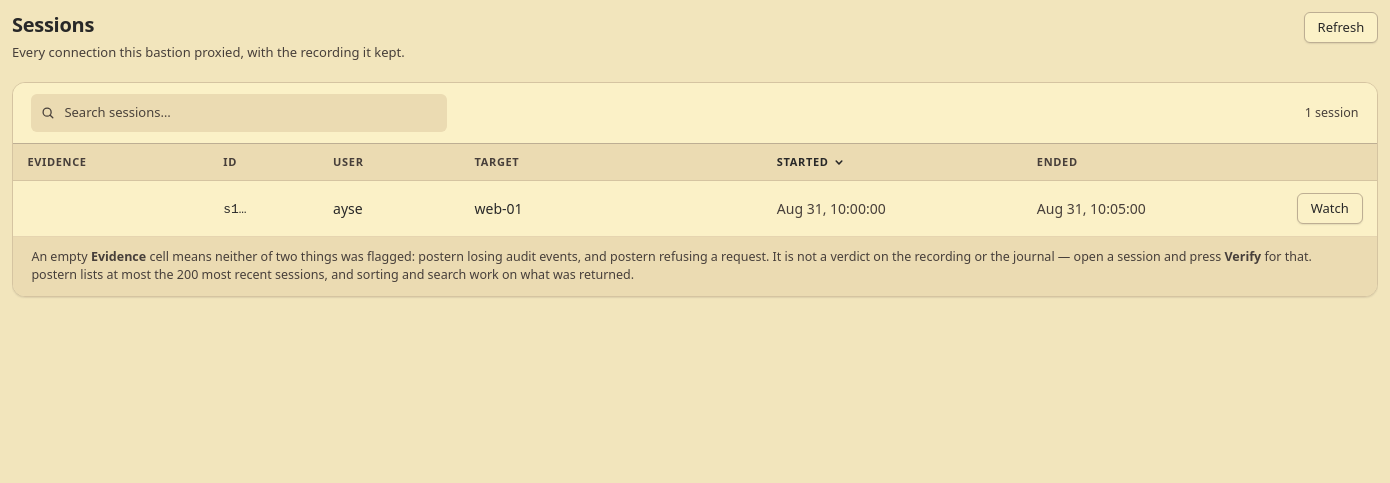
SFTP dosya olayları › kaydı olmayan oturumda bile dosya olaylarını gösteriyor
Click the button "Watch".
click(1330, 208)  # box [1297,193,1363,224]
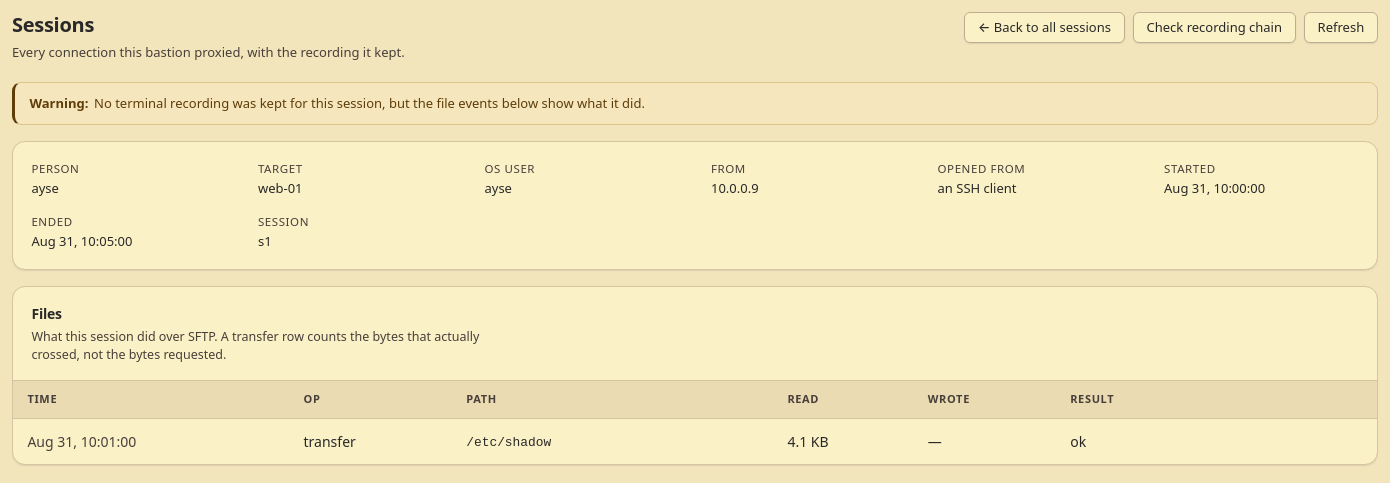
expect the text "/etc/shadow" is shown: met, box [466,435,551,450]
expect the text "4.1 KB" is shown: met, box [773,418,913,464]
expect the text "file events below show what it did" is shown: met, box [94,94,645,112]
